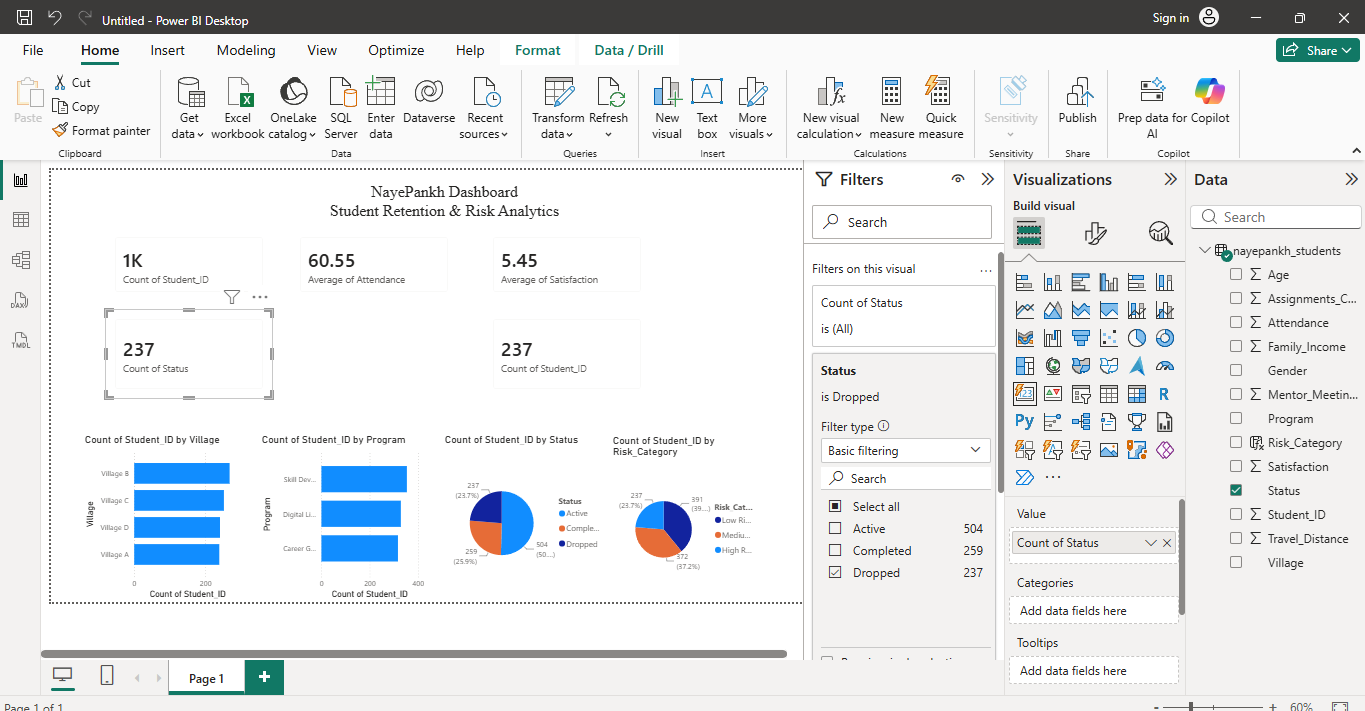

The page's visual inventory and layout, read from the dashboard file:
{"tool":"powerbi","page":{"name":"Page 1","canvas":[1280,720],"ordinal":0},"visuals":[{"type":"cardVisual","title":"Total Students","fields":{"Data":["CountNonNull(nayepankh_students.Student_ID)"]},"box":[90,95,280,125],"z":0},{"type":"cardVisual","title":"Average Attendance (%)","fields":{"Data":["Avg(nayepankh_students.Attendance)"]},"box":[398.3,95,280,125],"z":1000},{"type":"clusteredBarChart","fields":{"Category":["nayepankh_students.Program"],"Y":["CountNonNull(nayepankh_students.Student_ID)"]},"box":[346.7,438.3,280,281.7],"z":2000},{"type":"clusteredBarChart","fields":{"Category":["nayepankh_students.Village"],"Y":["CountNonNull(nayepankh_students.Student_ID)"]},"box":[51.2,438.8,280,281.2],"z":3000},{"type":"pieChart","fields":{"Category":["nayepankh_students.Status"],"Y":["CountNonNull(nayepankh_students.Student_ID)"]},"box":[651.7,438.3,280,281.7],"z":4000},{"type":"cardVisual","title":"Average of Satisfied Students(%)","fields":{"Data":["Avg(nayepankh_students.Satisfaction)"]},"box":[720,95,280,125],"z":5000},{"type":"pieChart","fields":{"Category":["nayepankh_students.Risk_Category"],"Y":["CountNonNull(nayepankh_students.Student_ID)"]},"box":[931.7,440,251.7,280],"z":6000},{"type":"textbox","box":[128.3,16.7,1055,78.3],"z":7000},{"type":"cardVisual","title":"High Risk Students","fields":{"Data":["CountNonNull(nayepankh_students.Student_ID)"]},"box":[640,231.7,280,150],"z":8000},{"type":"cardVisual","title":"Dropped Sudents","fields":{"Data":["CountNonNull(nayepankh_students.Status)"]},"box":[258.3,220,280,150],"z":9000},{"type":"textbox","box":[970,161.7,280,220],"z":10000}]}

Visuals, with their boxes on the page's 1280x720 design canvas (x1, y1, x2, y2). These are canvas units, not pixel positions in the 1365x711 screenshot, which may show the page scaled, cropped or inside an application window:
"Total Students" cardVisual: 90,95,370,220
"Average Attendance (%)" cardVisual: 398,95,678,220
clusteredBarChart - nayepankh_students.Program x CountNonNull(nayepankh_students.Student_ID): 347,438,627,720
clusteredBarChart - nayepankh_students.Village x CountNonNull(nayepankh_students.Student_ID): 51,439,331,720
pieChart - nayepankh_students.Status x CountNonNull(nayepankh_students.Student_ID): 652,438,932,720
"Average of Satisfied Students(%)" cardVisual: 720,95,1000,220
pieChart - nayepankh_students.Risk_Category x CountNonNull(nayepankh_students.Student_ID): 932,440,1183,720
textbox: 128,17,1183,95
"High Risk Students" cardVisual: 640,232,920,382
"Dropped Sudents" cardVisual: 258,220,538,370
textbox: 970,162,1250,382
